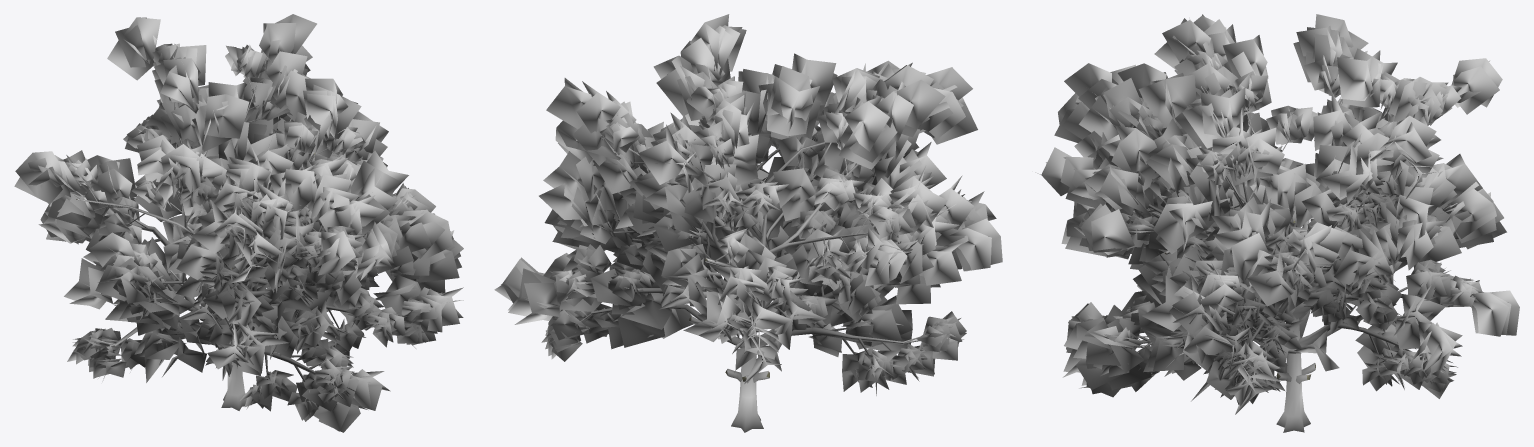
Rendered from SycamoreNorthAmerican_C.fbx.
The picture shows the model from 3 angles, left to right: view 1: azimuth 30°, elevation 25°; view 2: azimuth 150°, elevation 25°; view 3: azimuth 270°, elevation 25°; orthographic projection. The views are drawn at different scales.
Visible parts, largest first — view 1: SycamoreNorthAmerican_C_LOD0; view 2: SycamoreNorthAmerican_C_LOD0; view 3: SycamoreNorthAmerican_C_LOD0.
Part boxes in pixels (<box>): SycamoreNorthAmerican_C_LOD0: <box>14,14,463,432</box>; SycamoreNorthAmerican_C_LOD0: <box>494,14,1002,432</box>; SycamoreNorthAmerican_C_LOD0: <box>1035,14,1519,432</box>.
Bounding box in the file's own units: 2630 × 2060 × 2492.
